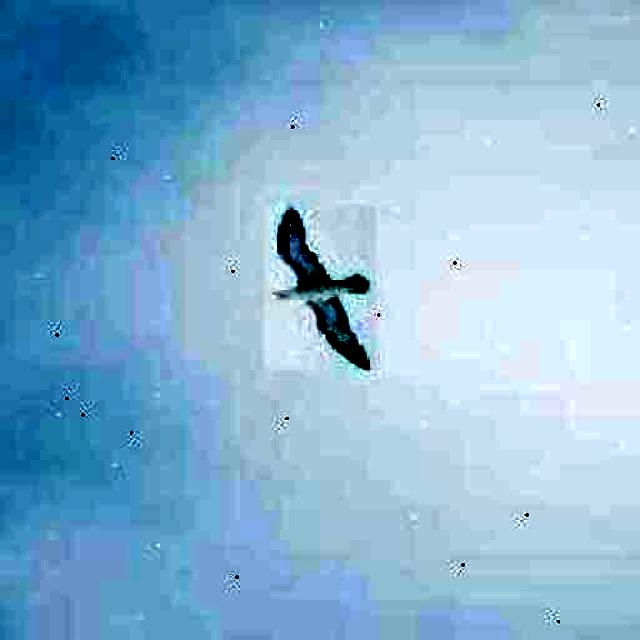airplane: (264, 206, 376, 370)
